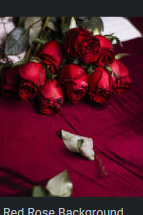RedRose: (61, 62, 90, 104), (15, 59, 44, 98), (91, 66, 116, 108), (41, 78, 66, 118), (110, 58, 134, 94)
